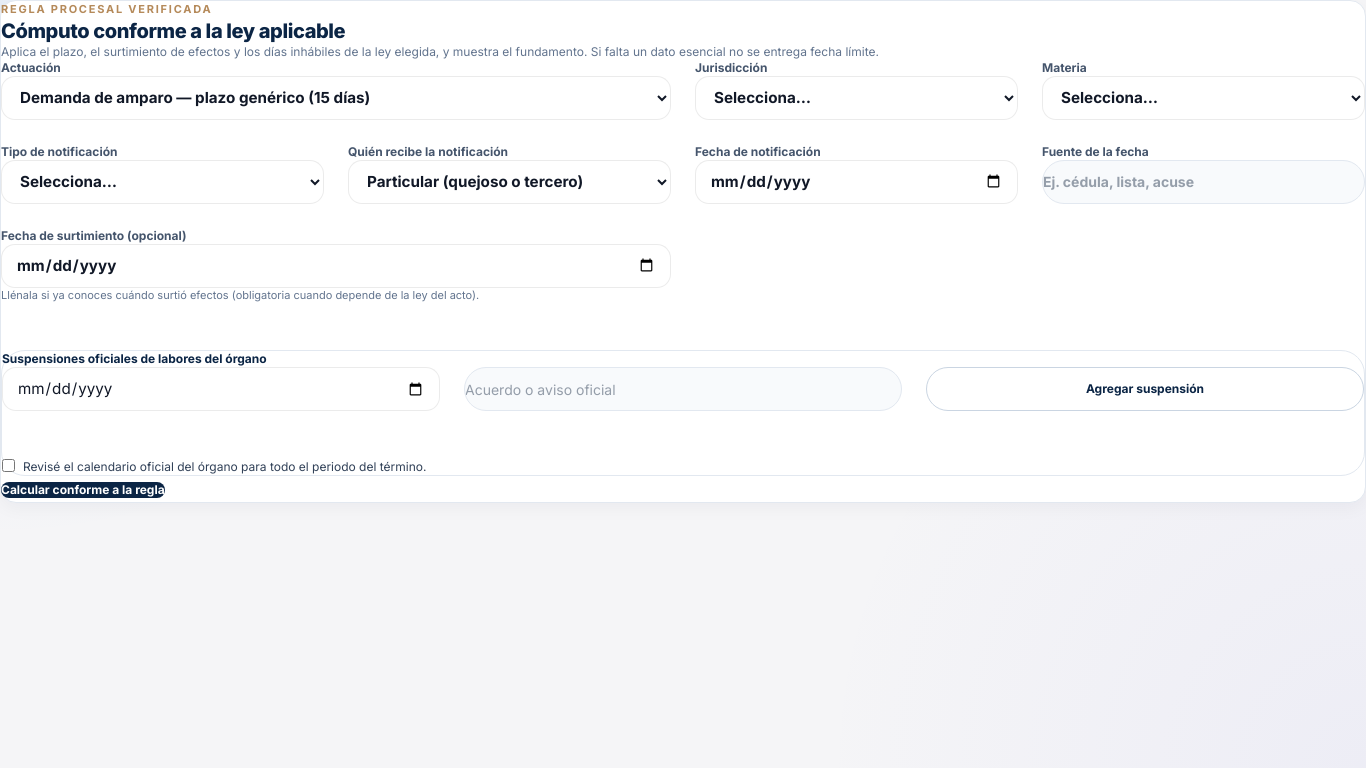
Test: ProceduralTermCalculator › una regla sin cotejar (civil/familiar Jalisco) no calcula
Select "Civil o familiar en Jalisco (contestación, apelación u otros) — pendiente de cot" in the dropdown labelled "Actuación": (336, 98) [1,76,671,120]
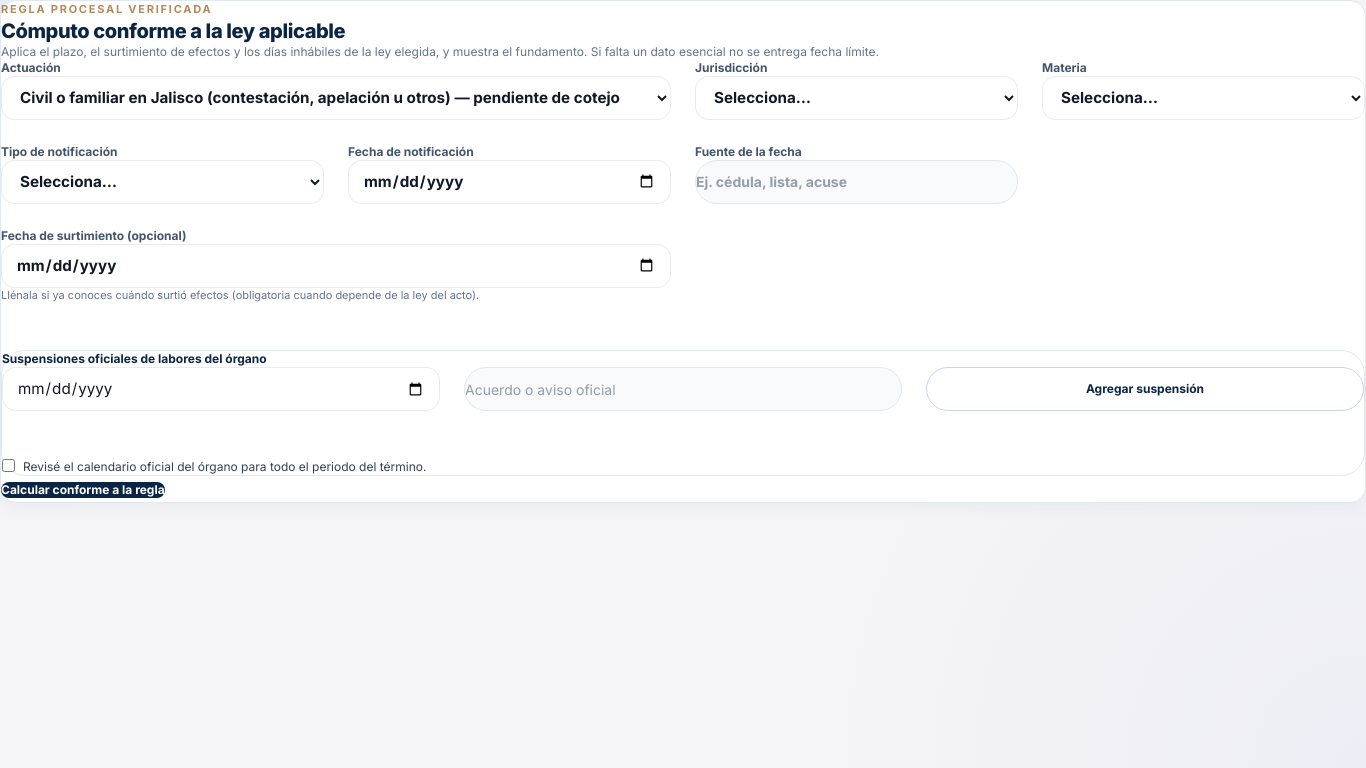
Select "Local" in the dropdown labelled "Jurisdicción": (856, 98) [695,76,1018,120]
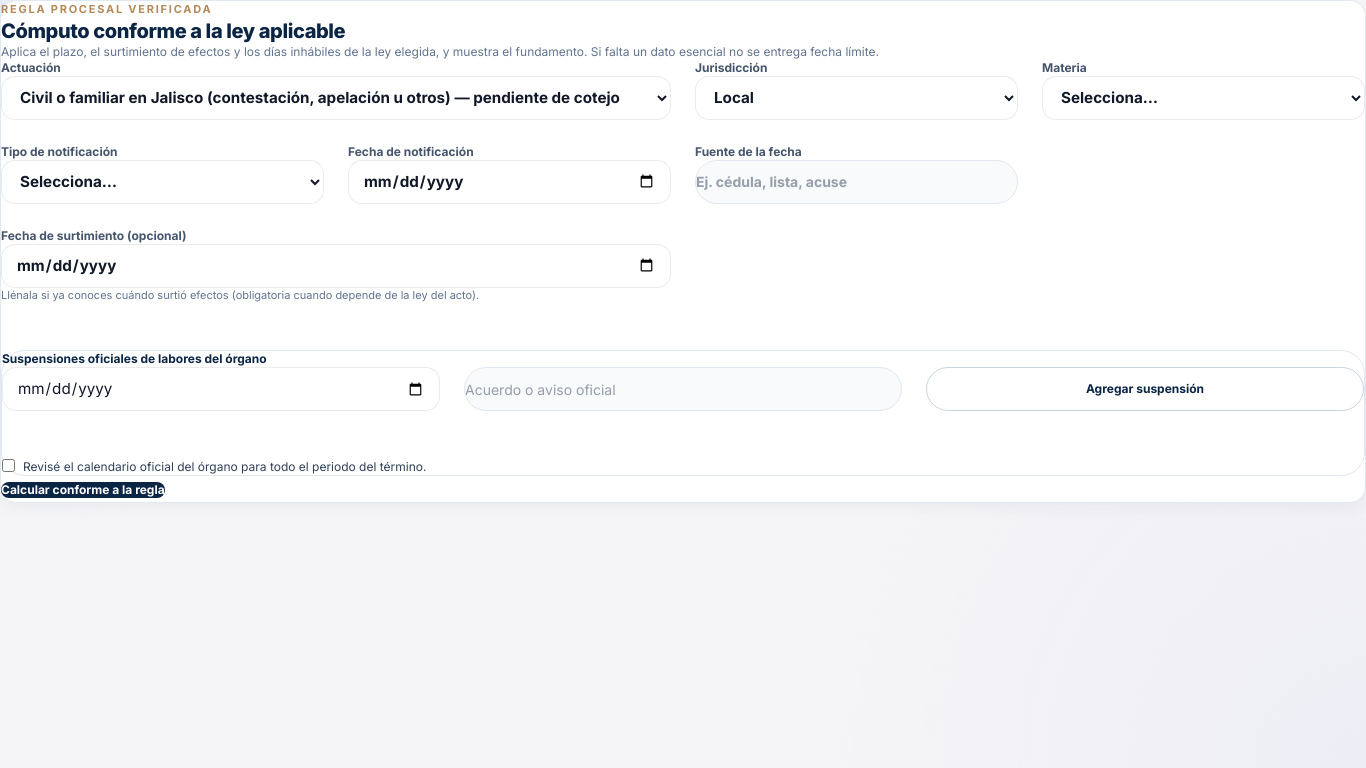
Select "Familiar" in the dropdown labelled "Materia": (1204, 98) [1042,76,1365,120]
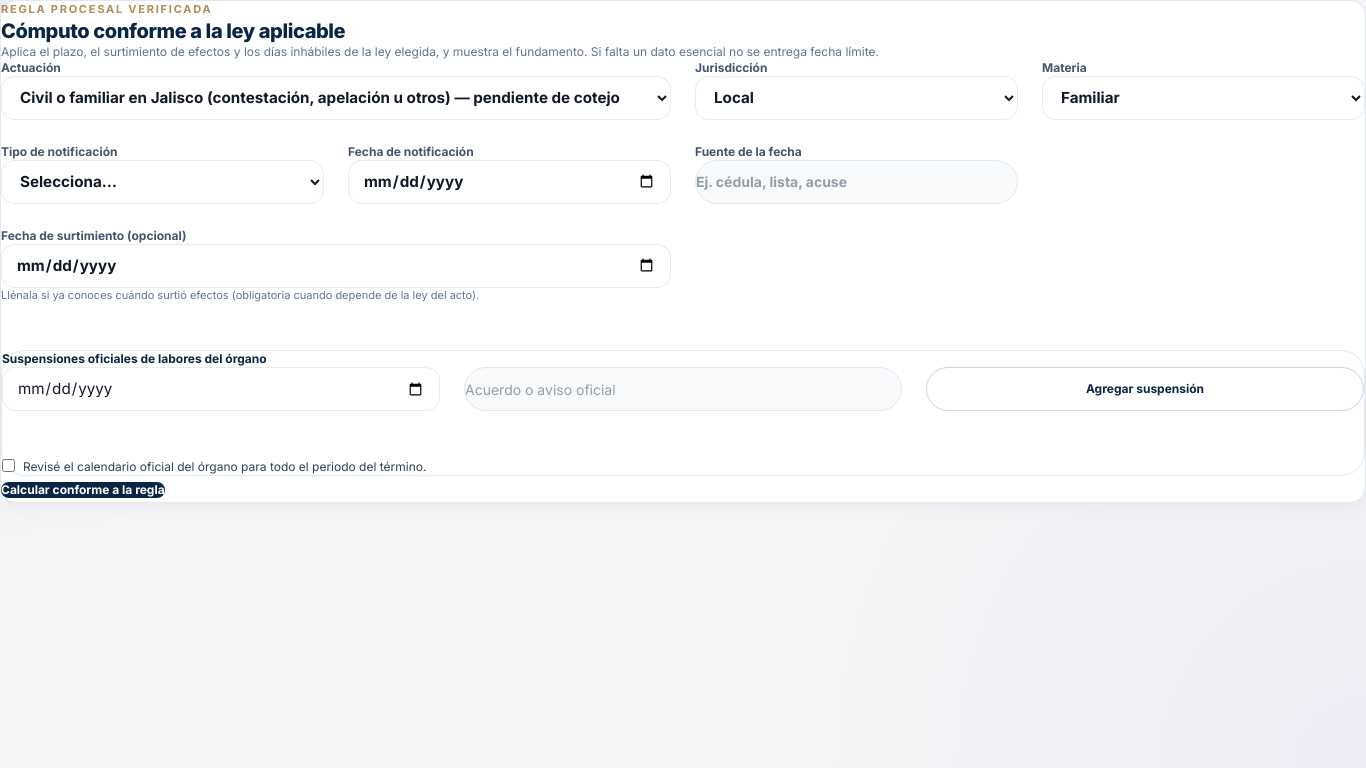
In the date field labelled "Fecha de notificación": (510, 182) [348,160,671,204], type "2026-10-09"
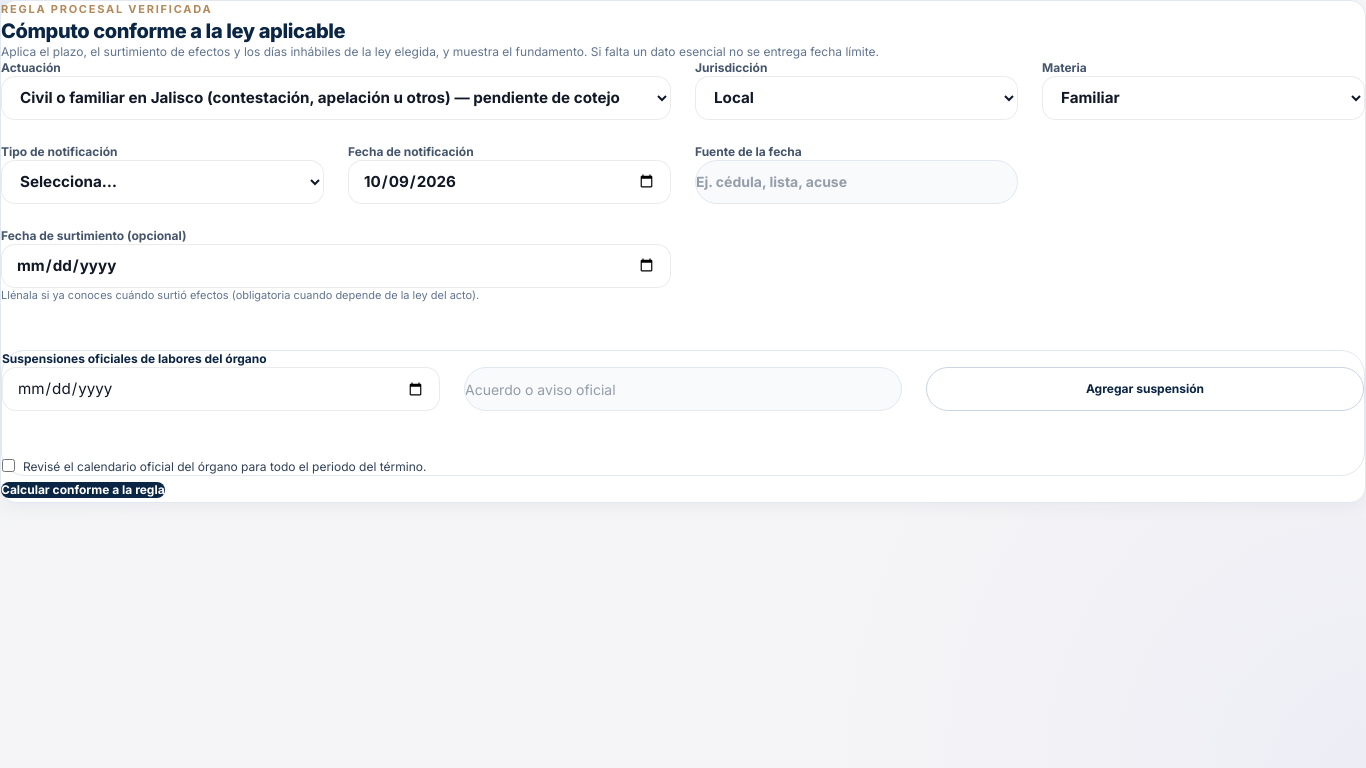
Click the button "Calcular conforme a la regla": (83, 490) [1,482,165,498]
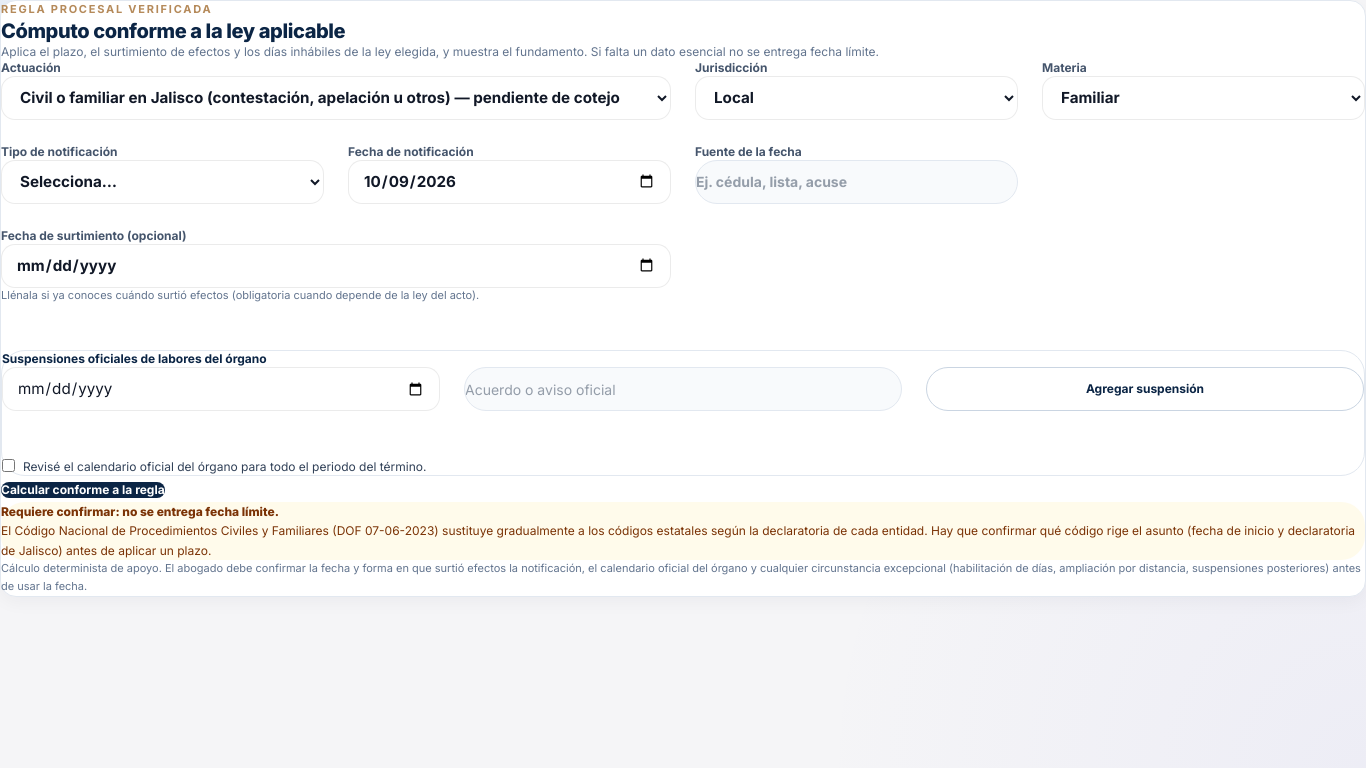
Check: the element with test id "procedural-term-result" shows "Código Nacional de Procedimientos Civiles y Familiares", box [1,523,1355,558]
